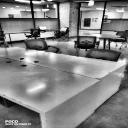chair_fail: (84, 48, 122, 62), (24, 39, 60, 53), (74, 36, 100, 49), (110, 32, 128, 42), (24, 29, 41, 38)
chair_success: (53, 28, 69, 41)
